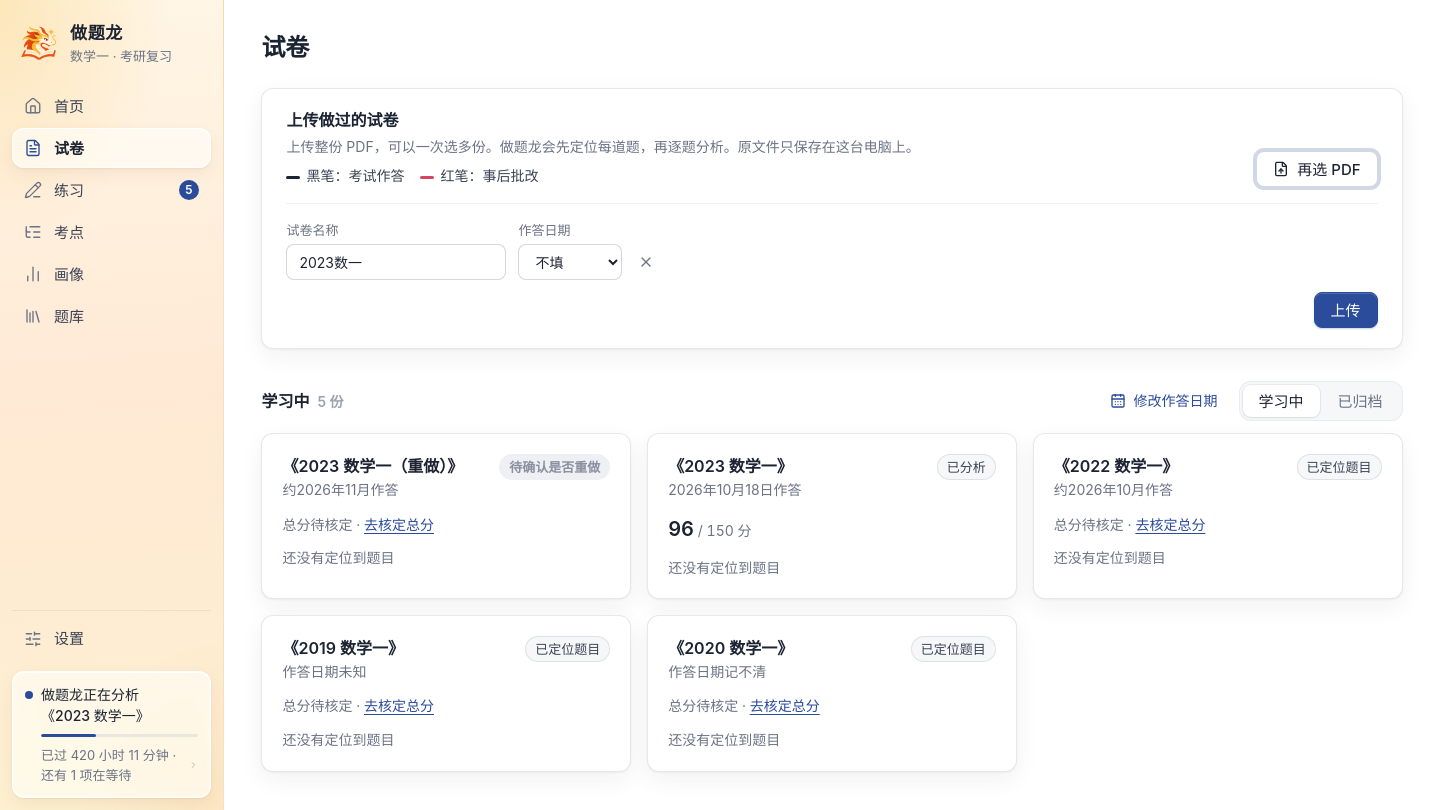
Test: says the date was not changed when the same PDF was uploaded before
The width and height of the screenshot is (1440, 810).
Earlier steps of the test are not shown.
Select "记不清" in the dropdown labelled "作答日期" at point(570, 262), box [518,244,622,280]
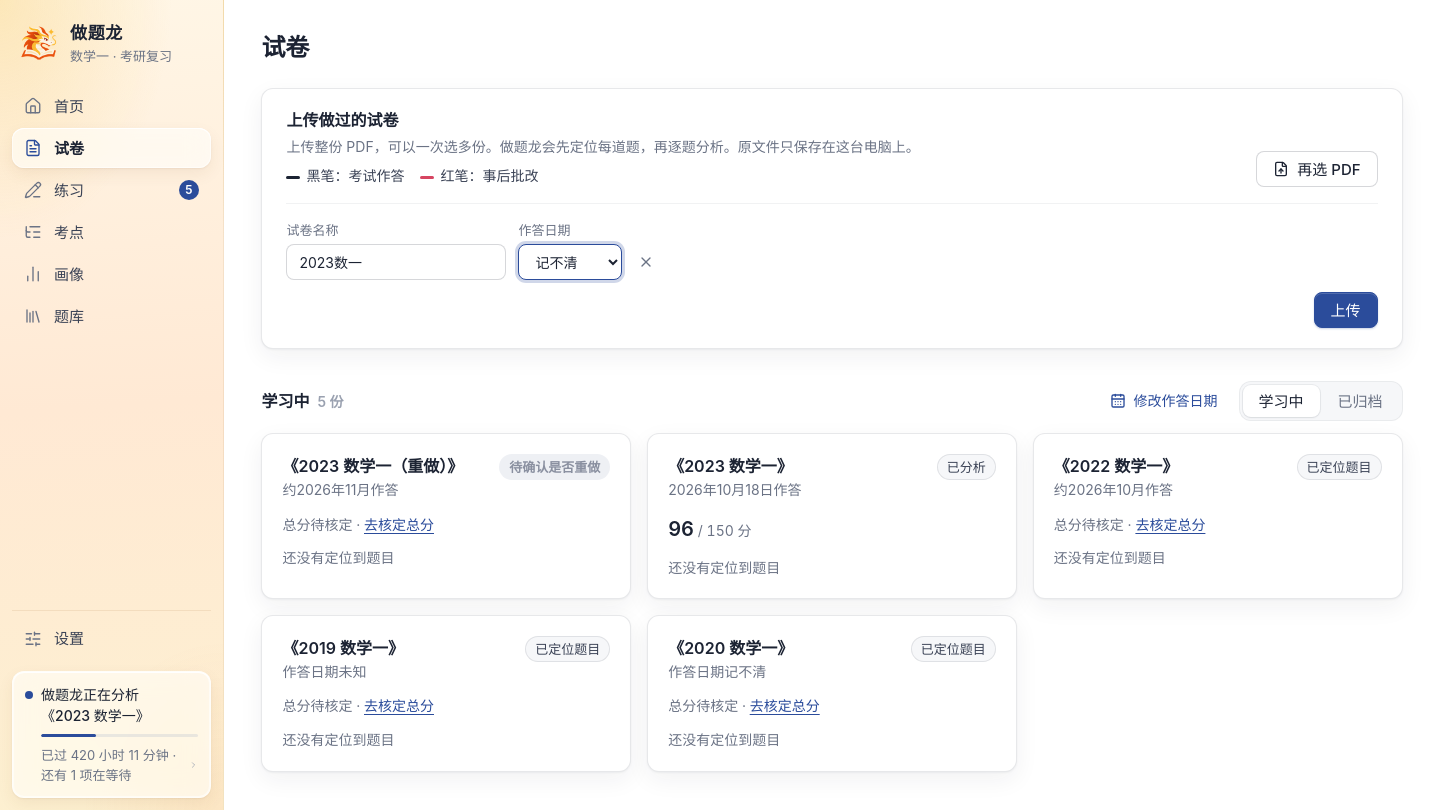
Click the button "上传" at point(1346, 310), box [1314,292,1378,328]
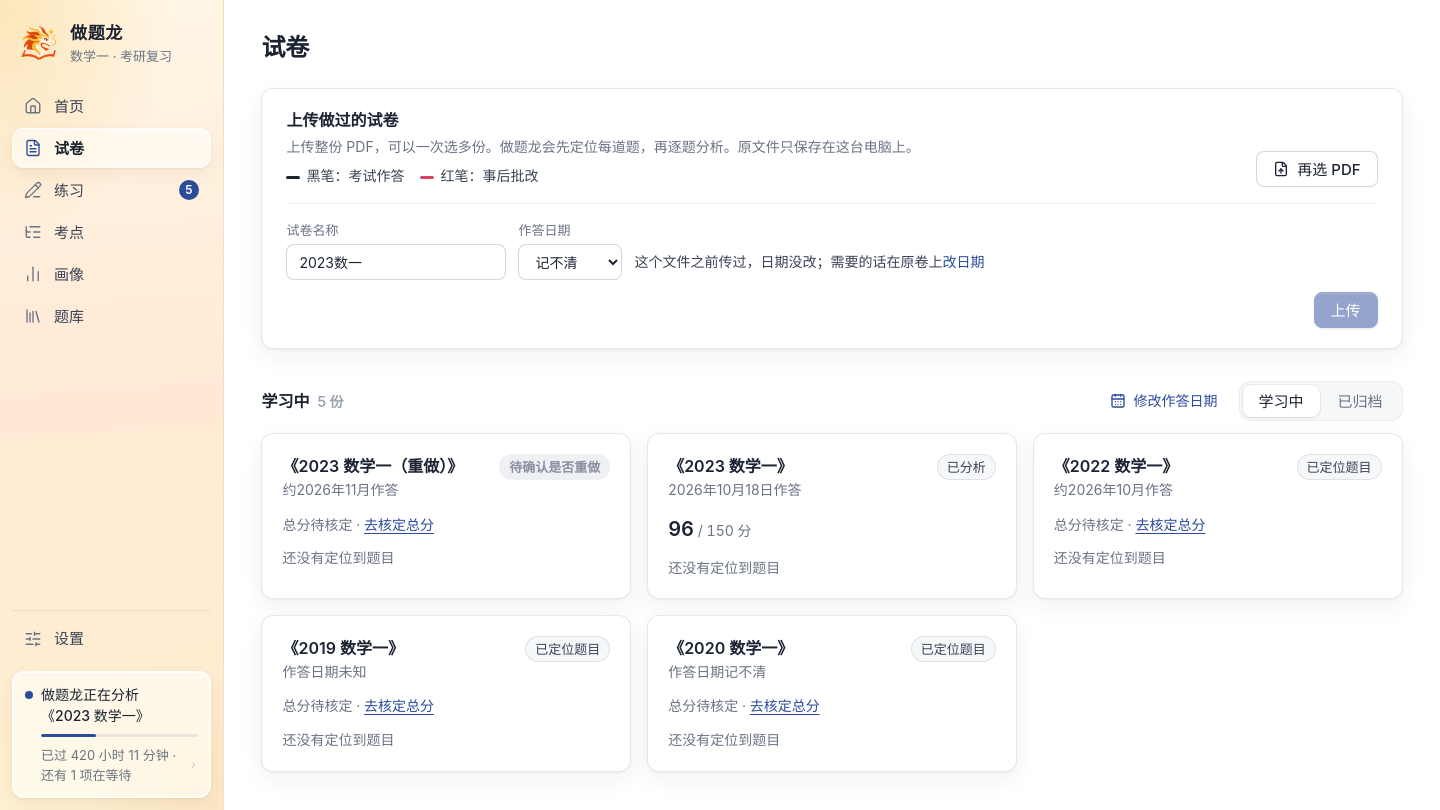
Check: the text "这个文件之前传过，日期没改；需要的话在原卷上 改日期" is shown, box [634,252,984,273]
